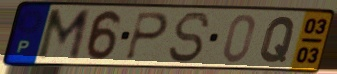0: (221, 13, 258, 65)
6: (84, 8, 124, 63)
M: (33, 7, 93, 63)
P: (122, 10, 171, 63)
Q: (258, 15, 298, 64)
S: (166, 10, 212, 65)
